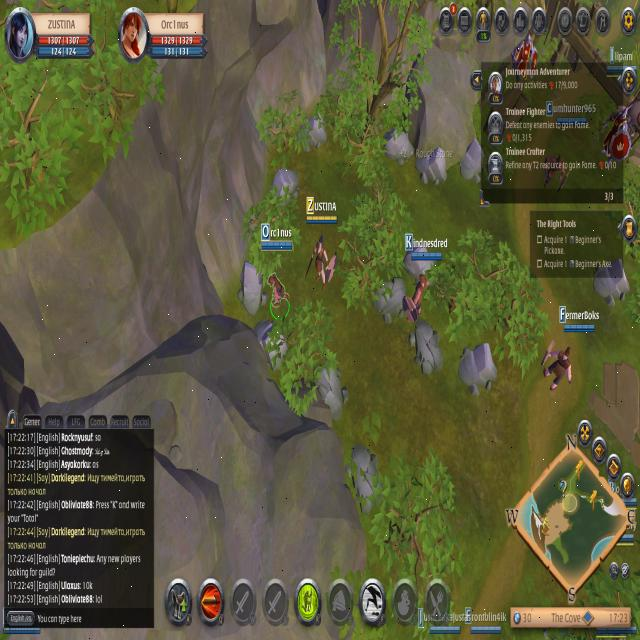broken stone: (345, 438, 387, 524), (310, 351, 352, 425), (410, 318, 444, 380), (374, 271, 410, 326)
stone: (458, 335, 500, 406), (592, 251, 630, 318), (249, 314, 291, 366), (268, 159, 304, 218), (235, 260, 271, 316), (294, 109, 331, 158), (384, 114, 413, 173), (456, 130, 485, 188), (422, 136, 447, 194)
